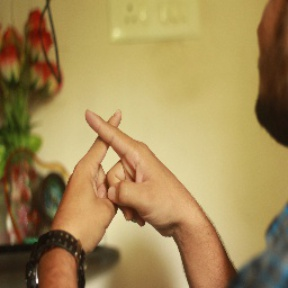X: (52, 99, 170, 210)
